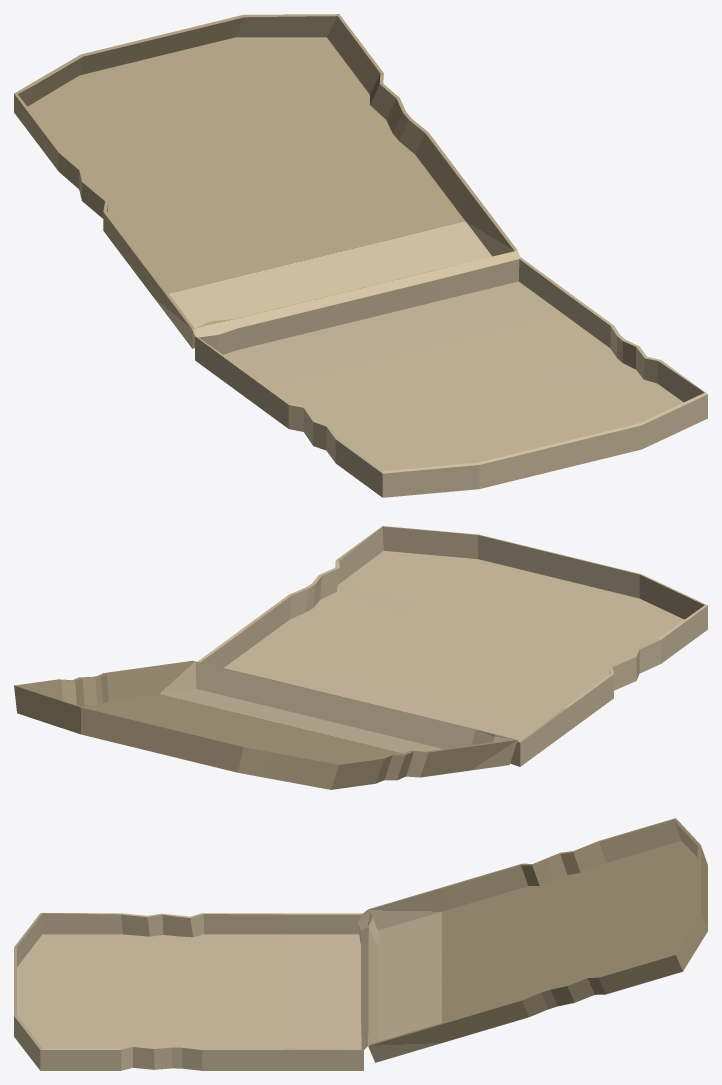
The model's file is cajaPizza.fbx.
3 renders of one model, top to bottom at view 1: azimuth 30°, elevation 25°; view 2: azimuth 150°, elevation 25°; view 3: azimuth 270°, elevation 25°, orthographic. The views are drawn at different scales.
Visible parts, largest first — view 1: cajaPizza; view 2: cajaPizza; view 3: cajaPizza.
Boxes of the visible parts, x1,y1,x2,y2 form: cajaPizza: [14, 14, 707, 497]; cajaPizza: [14, 526, 707, 789]; cajaPizza: [14, 818, 707, 1070].
Size of the model in its own units: 98.45 by 41.39 by 211.
